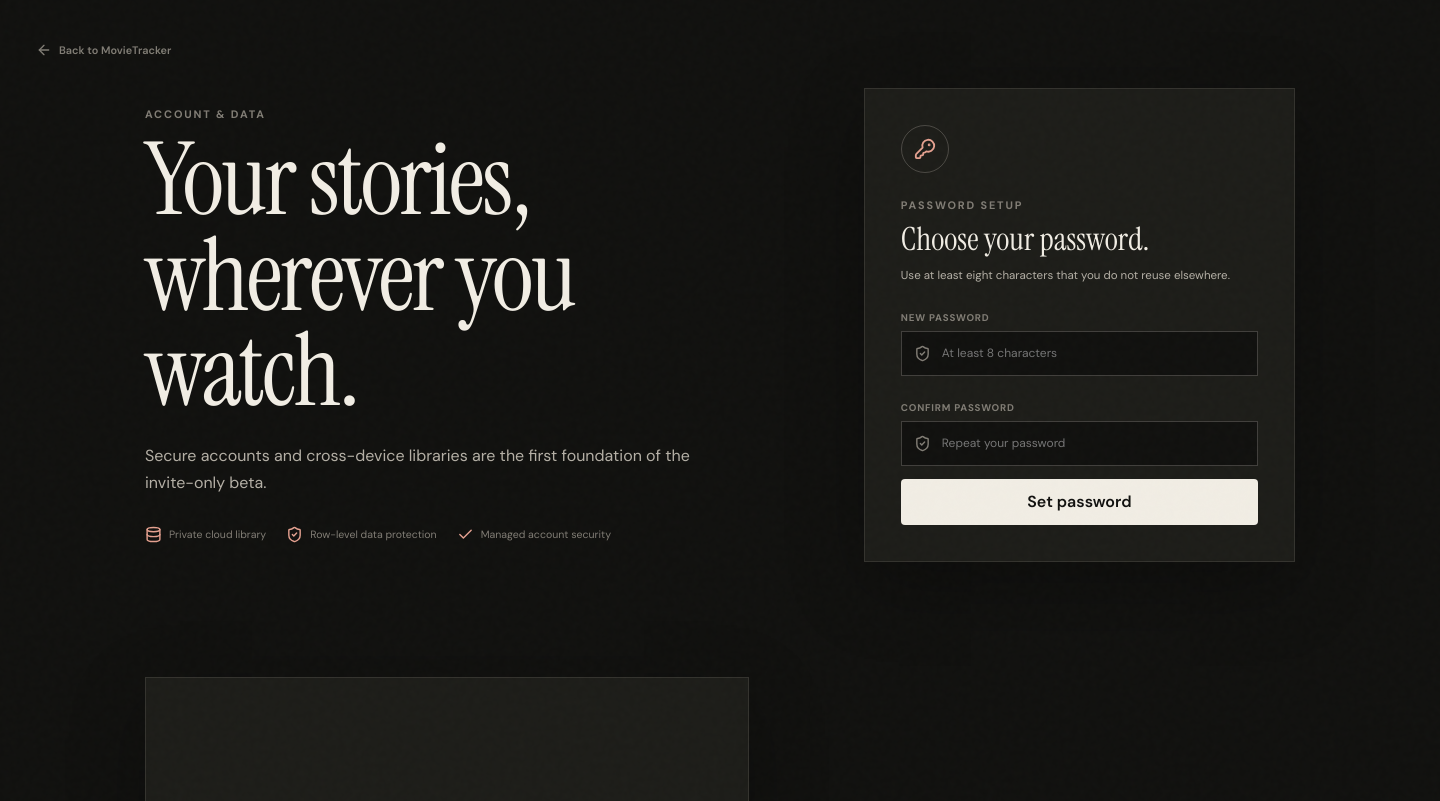
Test: account password setup › sets matching passwords from a valid reset link
In the password field labelled "New password": (1092, 353) left=940, top=344, right=1245, bottom=362, type "cinema-archive-2026"
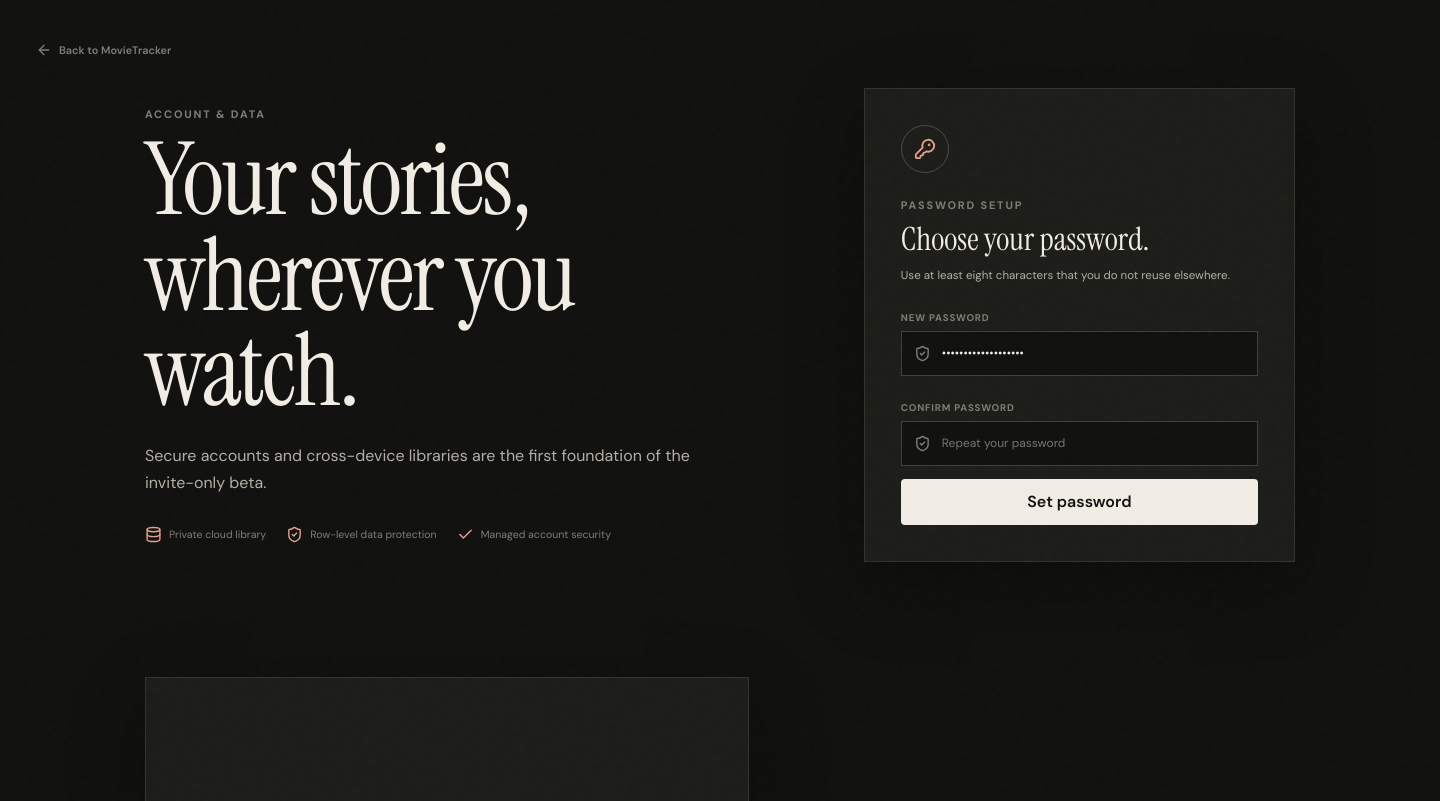
In the password field labelled "Confirm password": (1092, 443) left=940, top=434, right=1245, bottom=452, type "cinema-archive-2026"
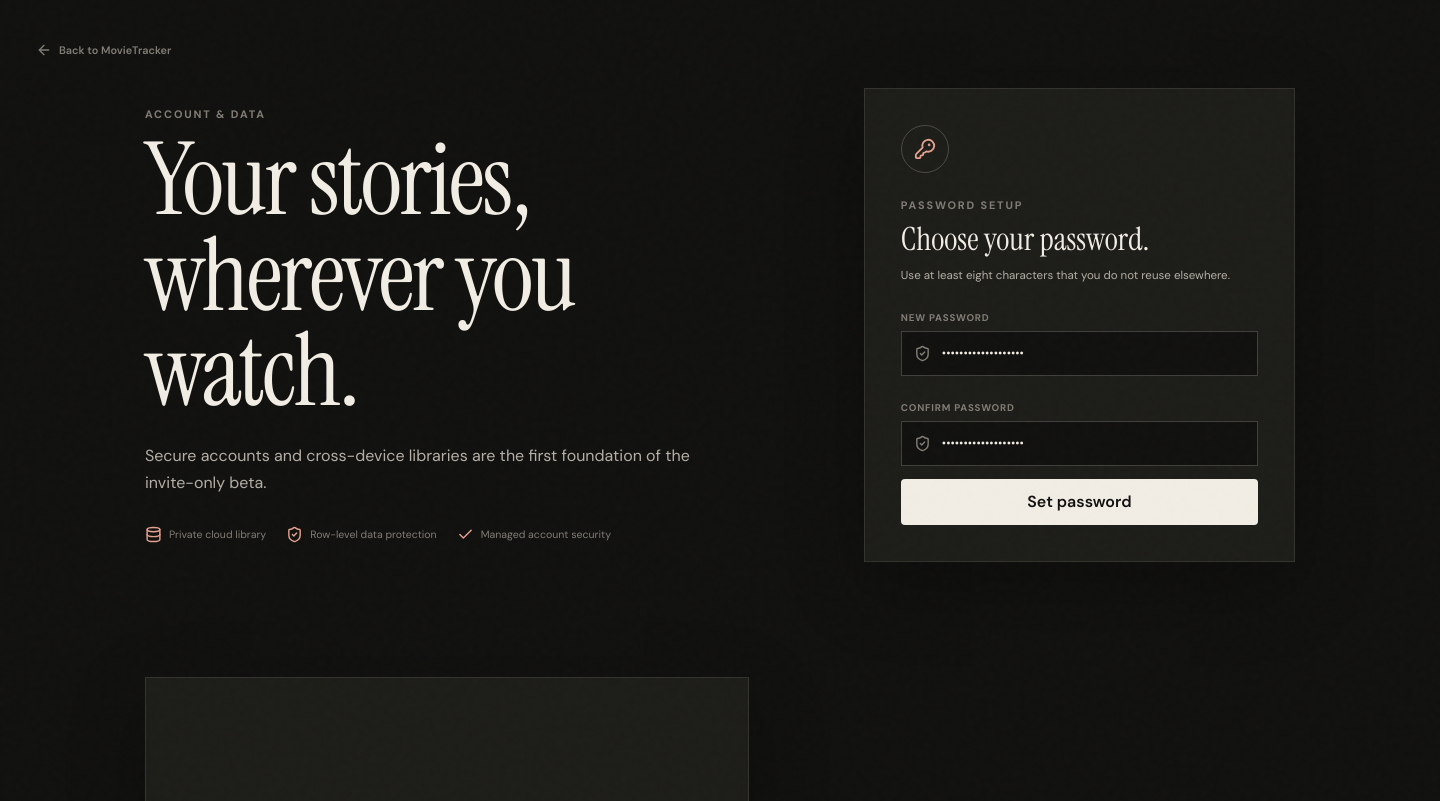
Click the button "Set password": (1079, 502) left=901, top=479, right=1258, bottom=525
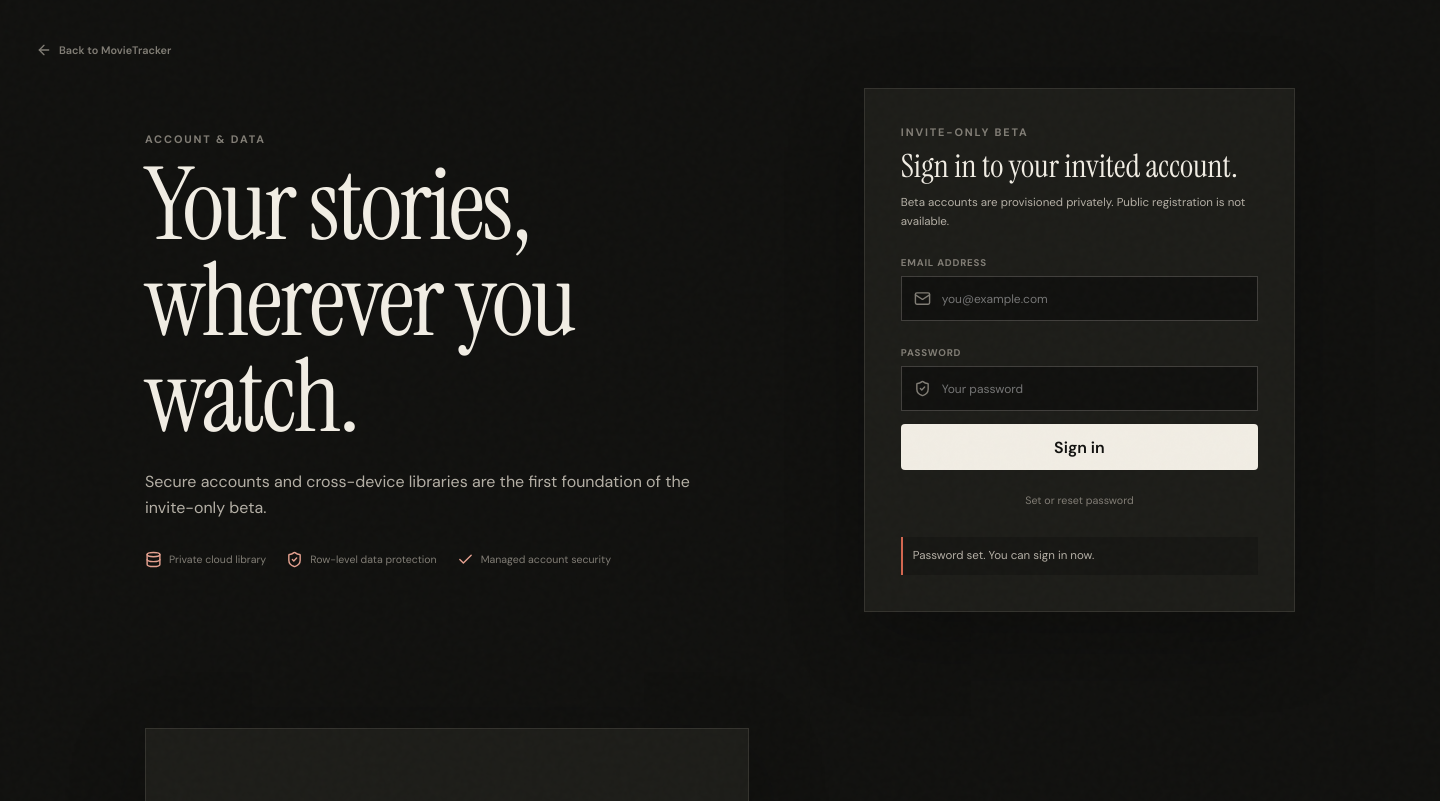
Result: the text "Password set. You can sign in now." is shown at left=901, top=537, right=1258, bottom=576
